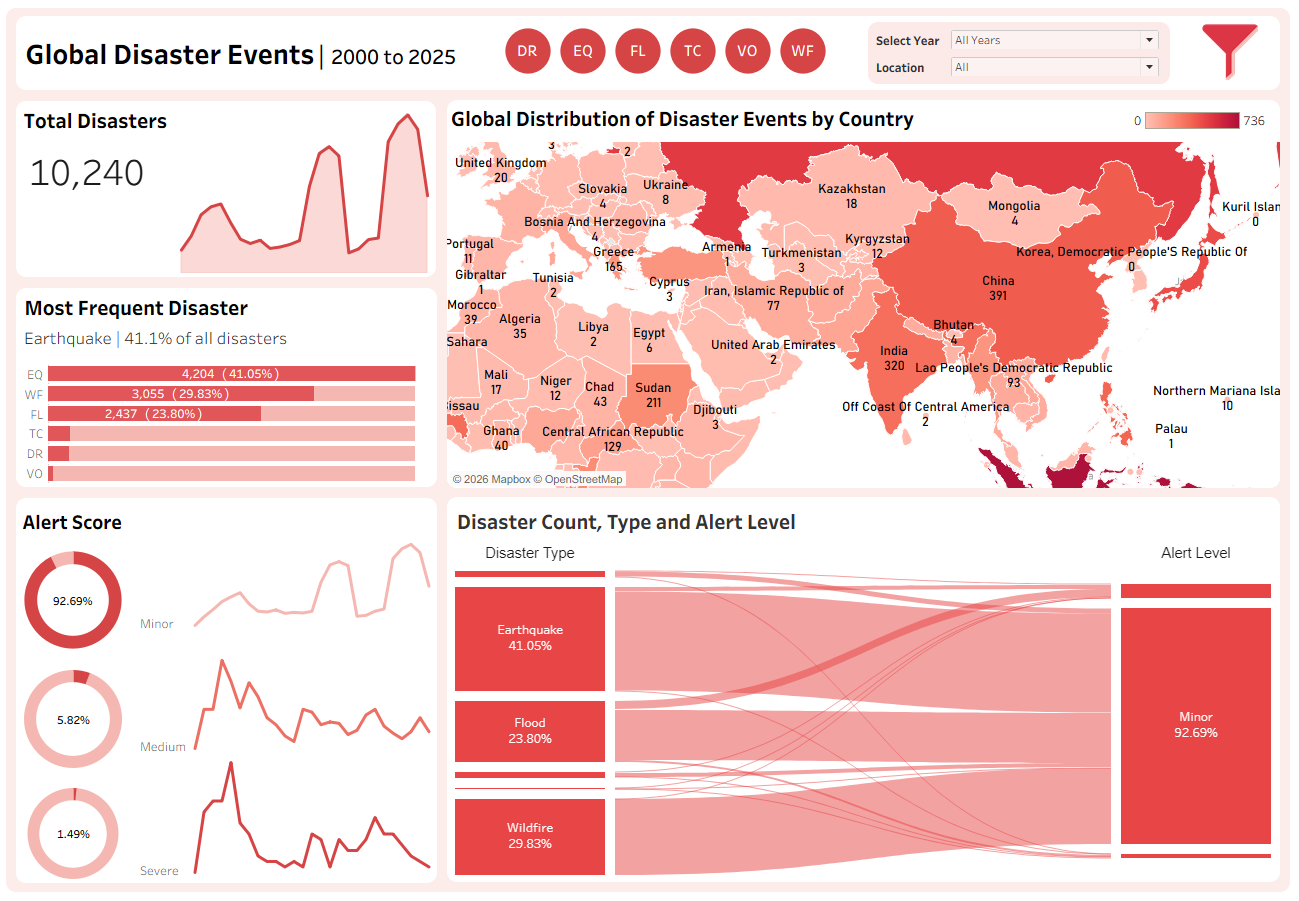

What the dashboard file says about the page in this screenshot:
{"tool":"tableau","page":{"name":"Final Dashboard","canvas":[1300,900],"ordinal":1},"visuals":[{"type":"text","box":[21,19,477,68]},{"type":"worksheet","title":"Filter by event type","mark":"Shape","cols":["event_type"],"box":[498,19,372,68]},{"type":"dashboard-object","box":[1191,24,82,56]},{"type":"parameter","param":"[Parameters].[Parameter 1]","box":[874,26,294,27]},{"type":"parameter","param":"[Parameters].[Parameter 3]","box":[874,53,294,27]},{"type":"worksheet","title":"Disasters by Country","mark":"Multipolygon","box":[449,100,833,391]},{"type":"text","box":[18,101,156,176]},{"type":"worksheet","title":"KPI 1.4","mark":"Automatic","rows":["Calculation_1200172703952896","Calculation_1200172703952896"],"cols":["full_date"],"box":[174,101,264,176]},{"type":"legend","title":"Disasters by Country","param":"[federated.1peklq2138fslo1047jr10prkjcy].[usr:Current year Value (copy)_30110688","box":[1132,108,140,24]},{"type":"worksheet","title":"KPI 1.1","mark":"Automatic","box":[27,147,142,53]},{"type":"worksheet","title":"KPI 1.2","mark":"Automatic","box":[24,212,198,27]},{"type":"worksheet","title":"KPI 1.3","mark":"Automatic","box":[25,252,228,24]},{"type":"text","box":[18,288,421,35]},{"type":"worksheet","title":"KPI 4.1","mark":"Automatic","box":[18,323,421,37]},{"type":"worksheet","title":"KPI 4.2","mark":"Bar","rows":["event_type"],"cols":["Calculation_0715565048008714"],"box":[18,360,421,127]},{"type":"worksheet","title":"Disaster Count, Type and Alert Level","box":[449,491,833,391]},{"type":"text","box":[18,504,114,34]},{"type":"worksheet","title":"Alert level by year","mark":"Line","rows":["alert_level"],"cols":["full_date"],"box":[132,504,307,379]},{"type":"worksheet","title":"Percentage - Minor","mark":"Automatic","box":[18,538,114,124]},{"type":"worksheet","title":"Percentage - Medium","mark":"Automatic","box":[18,662,114,110.5]},{"type":"worksheet","title":"Percentage - Severe","mark":"Automatic","box":[18,772.5,114,110.5]}]}

Visuals, with their boxes in screenshot pixels (x1, y1, x2, y2), scaled from the page's 1300x900 canvas onto the 1299x901 screenshot:
text: 21:19:498:87
"Filter by event type" worksheet (Shape marks): 498:19:869:87
dashboard-object: 1190:24:1272:80
parameter: 873:26:1167:53
parameter: 873:53:1167:80
"Disasters by Country" worksheet (Multipolygon marks): 449:100:1281:492
text: 18:101:174:277
"KPI 1.4" worksheet: 174:101:438:277
"Disasters by Country" legend: 1131:108:1271:132
"KPI 1.1" worksheet: 27:147:169:200
"KPI 1.2" worksheet: 24:212:222:239
"KPI 1.3" worksheet: 25:252:253:276
text: 18:288:439:323
"KPI 4.1" worksheet: 18:323:439:360
"KPI 4.2" worksheet (Bar marks): 18:360:439:488
"Disaster Count, Type and Alert Level" worksheet: 449:492:1281:883
text: 18:505:132:539
"Alert level by year" worksheet (Line marks): 132:505:439:884
"Percentage - Minor" worksheet: 18:539:132:663
"Percentage - Medium" worksheet: 18:663:132:773
"Percentage - Severe" worksheet: 18:773:132:884
